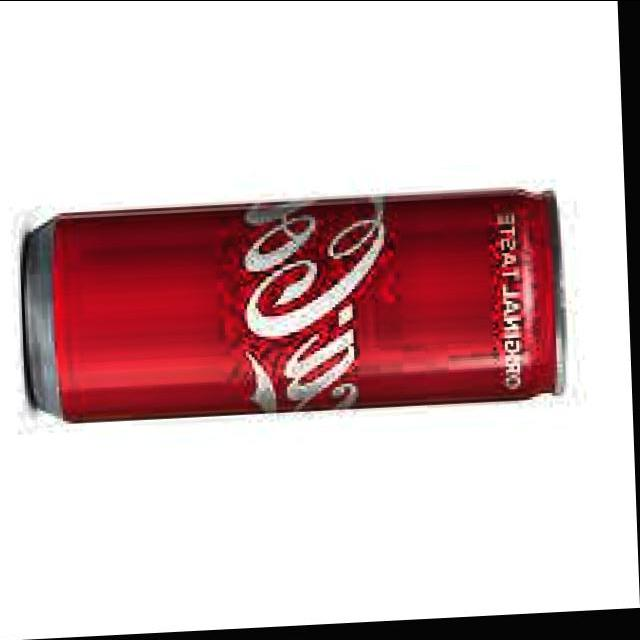Aluminum Can: (12, 177, 583, 435)
